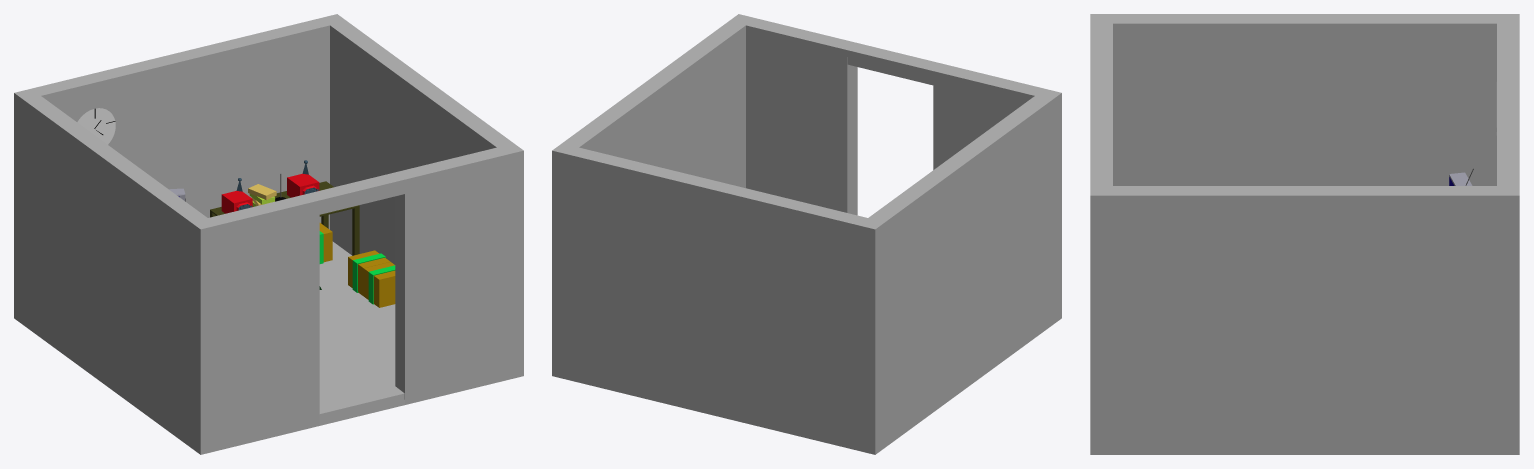
The model's file is RadioRoomPrototype.fbx.
The picture shows the model from 3 angles, left to right: view 1: azimuth 30°, elevation 25°; view 2: azimuth 150°, elevation 25°; view 3: azimuth 270°, elevation 25°; orthographic projection. The views are drawn at different scales.
Visible parts, largest first — view 1: Room, Cube.007, Cube.006, Circle.002, Table2, Cube.010, Cube.012; view 2: Room; view 3: Room.
Part boxes in pixels (<box>): Room: <box>14,14,523,454</box>; Cube.007: <box>363,262,395,307</box>; Cube.006: <box>348,250,390,295</box>; Circle.002: <box>77,108,115,144</box>; Table2: <box>210,181,359,255</box>; Cube.010: <box>287,160,319,197</box>; Cube.012: <box>221,178,252,213</box>; Room: <box>552,14,1061,454</box>; Room: <box>1090,14,1519,454</box>.
Size of the model in its own units: 600 by 400 by 600.
